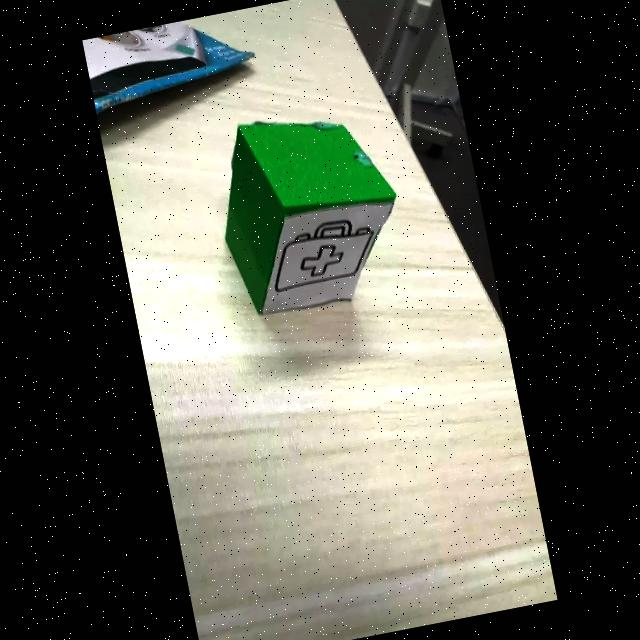Medkit: (274, 220, 373, 292)
